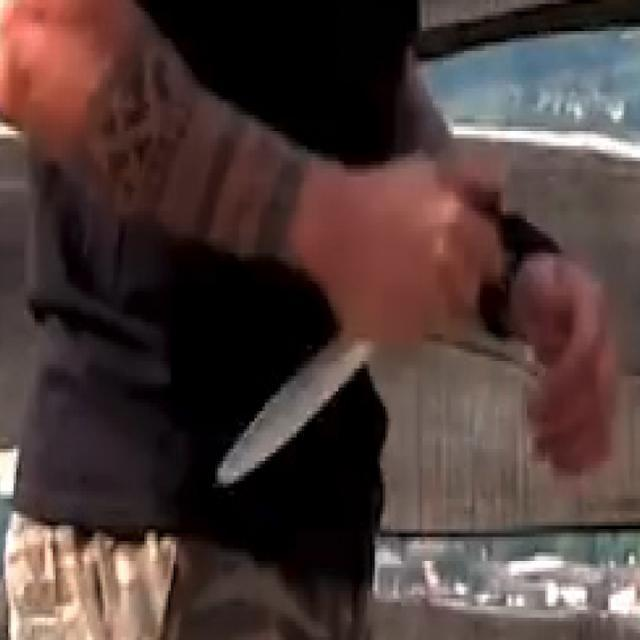suspicion: (3, 3, 512, 497), (210, 336, 374, 491)
